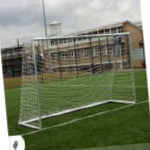goals: (18, 30, 137, 129)
